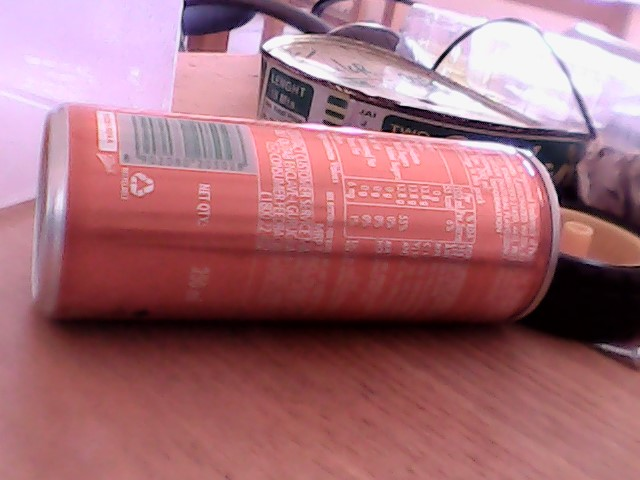Metal: (37, 108, 564, 345)
